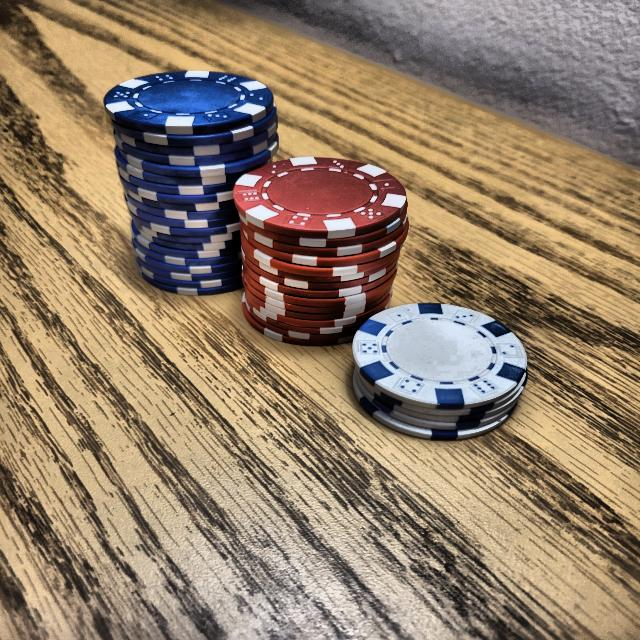Chip: (84, 49, 293, 320), (226, 121, 417, 372), (336, 284, 538, 455)
